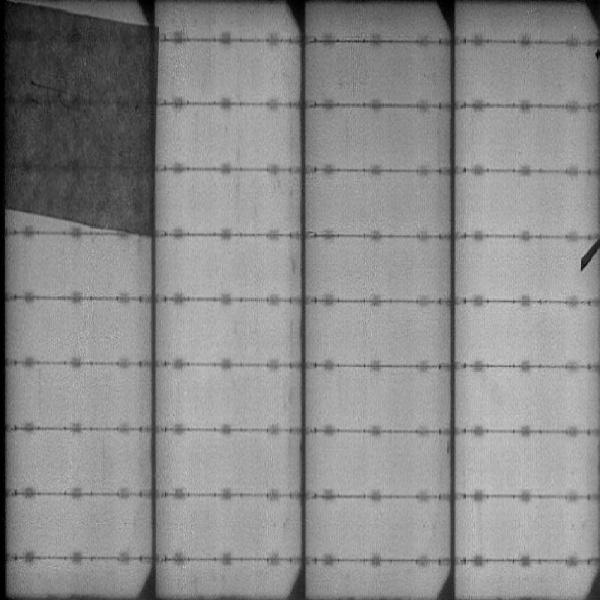broken: (1, 1, 159, 233), (576, 236, 599, 275)
